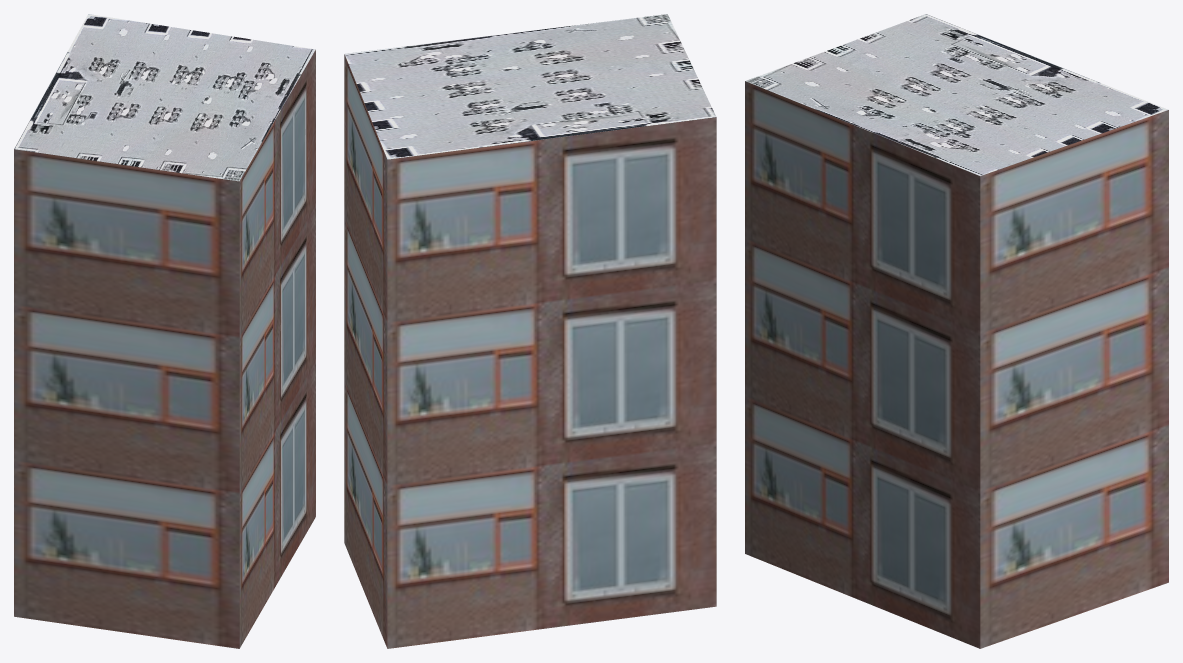
Rendered from ResTex__1520.fbx.
3 views of the same model, side by side, from view 1: azimuth 30°, elevation 25°; view 2: azimuth 150°, elevation 25°; view 3: azimuth 270°, elevation 25° (orthographic). The views are drawn at different scales.
Parts seen in each view (by area): view 1: CityEngineMaterial_19_m, CityEngineMaterial_15_m; view 2: CityEngineMaterial_19_m, CityEngineMaterial_15_m; view 3: CityEngineMaterial_19_m, CityEngineMaterial_15_m.
Boxes of the visible parts, x1,y1,x2,y2 form: CityEngineMaterial_19_m: (14,50,315,648); CityEngineMaterial_15_m: (14,14,315,181); CityEngineMaterial_19_m: (344,54,716,648); CityEngineMaterial_15_m: (344,14,716,159); CityEngineMaterial_19_m: (745,81,1168,648); CityEngineMaterial_15_m: (745,14,1168,175).
Bounding box in the file's own units: 6.62 × 9 × 7.31.
2 materials, 2 textured.
